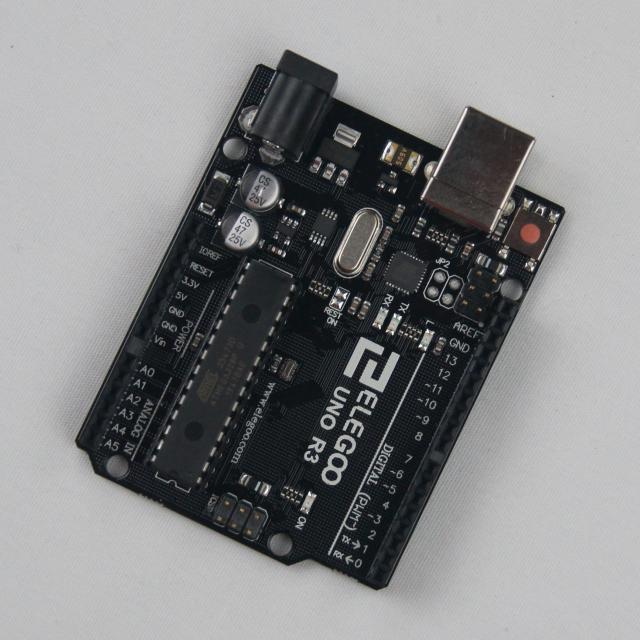Arduino Uno -Black-: (77, 52, 564, 589)
